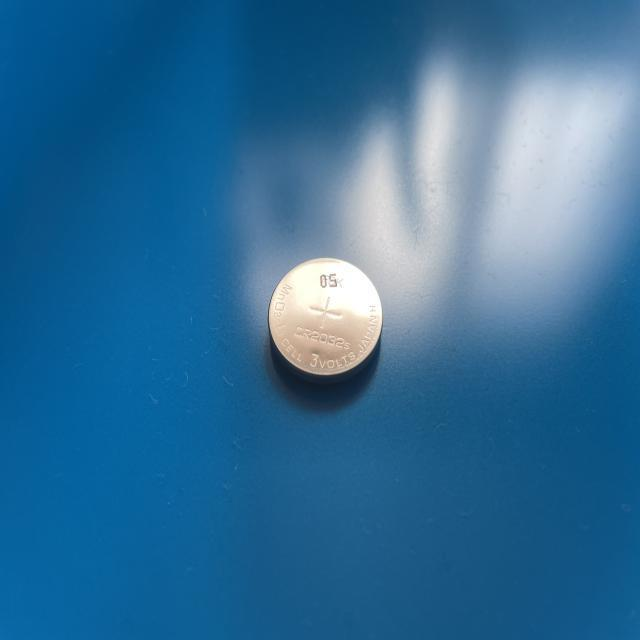COIN: (268, 256, 387, 387)
